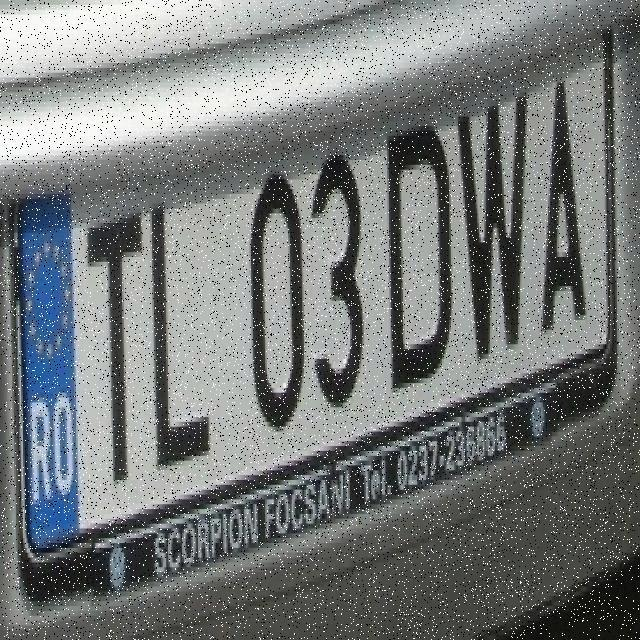LicensePlate: (5, 49, 628, 612)
